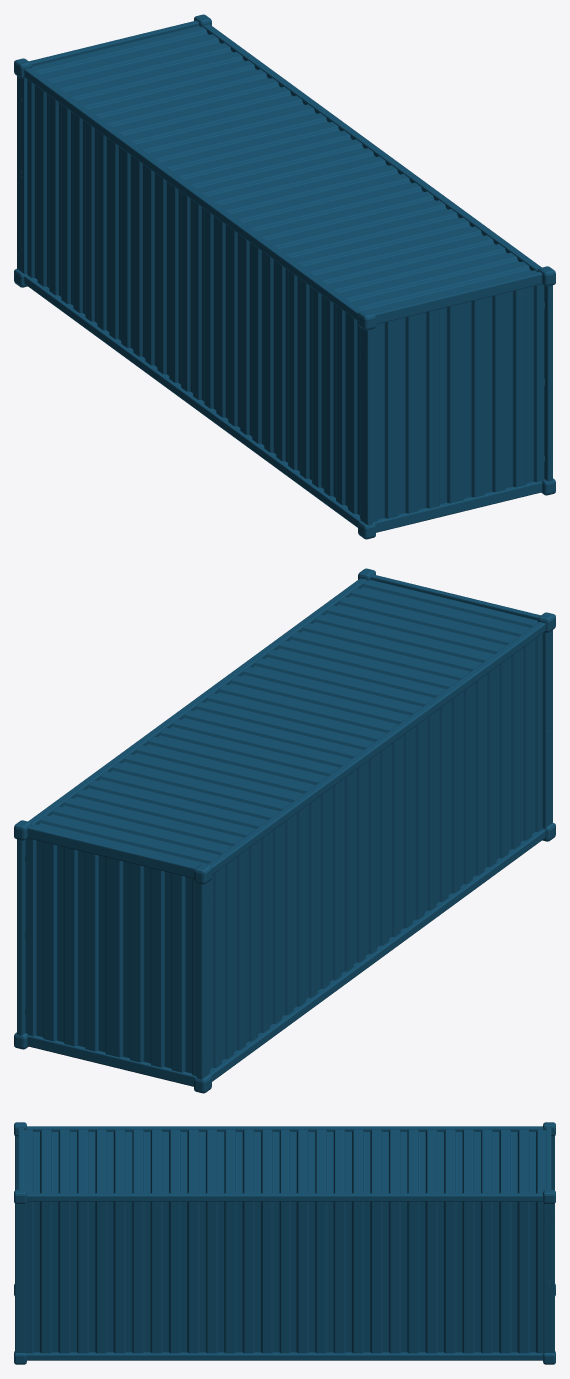
File: cargoBlue.glb
The picture shows the model from 3 angles, top to bottom: view 1: azimuth 30°, elevation 25°; view 2: azimuth 150°, elevation 25°; view 3: azimuth 270°, elevation 25°; orthographic projection. The views are drawn at different scales.
Parts seen in each view (by area): view 1: 030.002; view 2: 030.002; view 3: 030.002.
Part boxes in pixels (bbox=[...]): 030.002: bbox=[14, 14, 555, 539]; 030.002: bbox=[14, 568, 555, 1093]; 030.002: bbox=[14, 1122, 555, 1364].
Size of the model in its own units: 2.26 by 2.51 by 7.18.
1 material, 1 textured.
